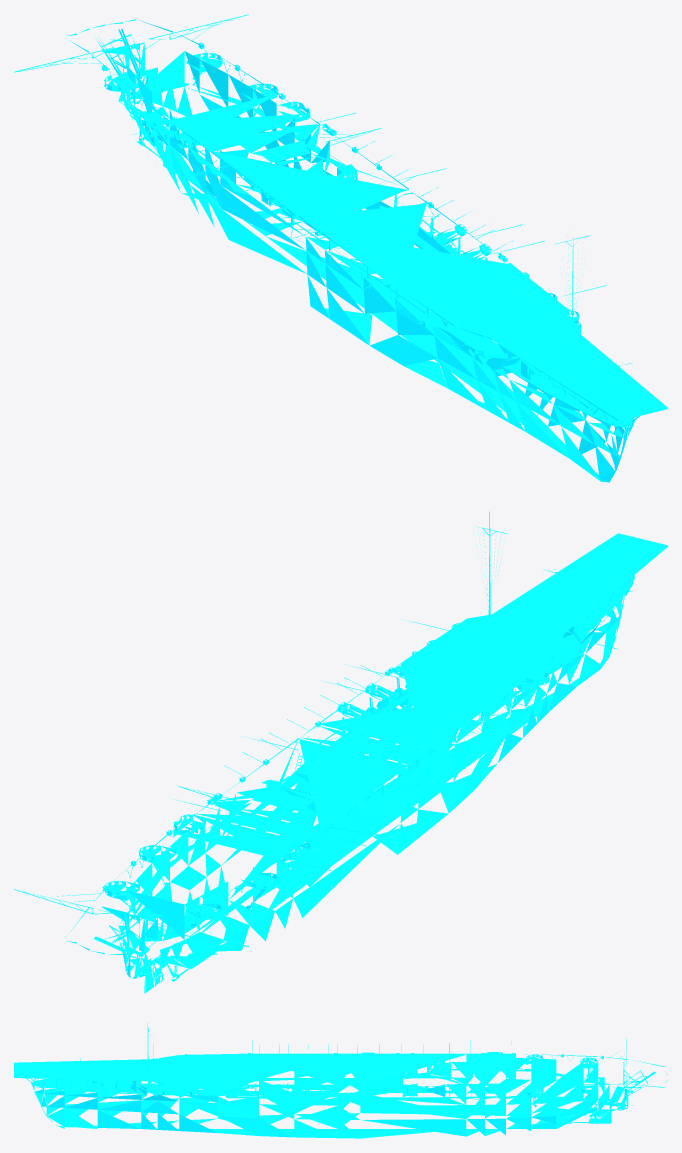
File: PJSA002.glb
The picture shows the model from 3 angles, top to bottom: view 1: azimuth 30°, elevation 25°; view 2: azimuth 150°, elevation 25°; view 3: azimuth 270°, elevation 25°; orthographic projection. The views are drawn at different scales.
Parts seen in each view (by area): view 1: hull; view 2: hull; view 3: hull, turret.
Part boxes in pixels (x1,y1,x2,y2): hull: (14, 14, 667, 482); hull: (14, 511, 667, 993); hull: (14, 1022, 667, 1138); turret: (102, 1069, 417, 1096).
Bounding box in the file's own units: 3.04 × 2.45 × 12.25.
